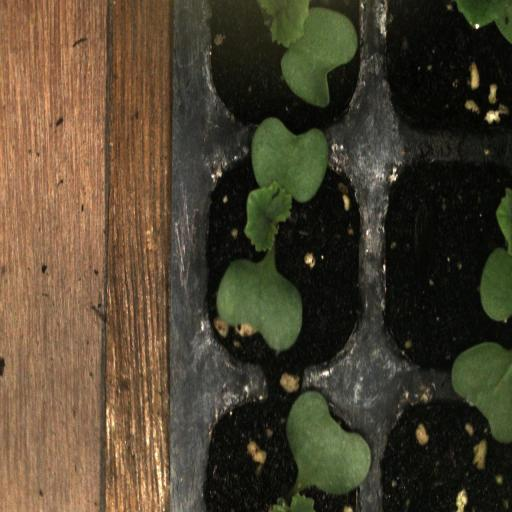Folha: (479, 189, 512, 322), (456, 0, 512, 43)
Germinacao: (191, 150, 368, 384), (191, 0, 371, 149), (196, 385, 369, 512)
